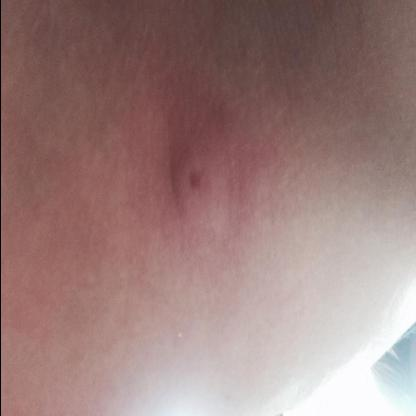Wasp: (167, 138, 233, 238)
